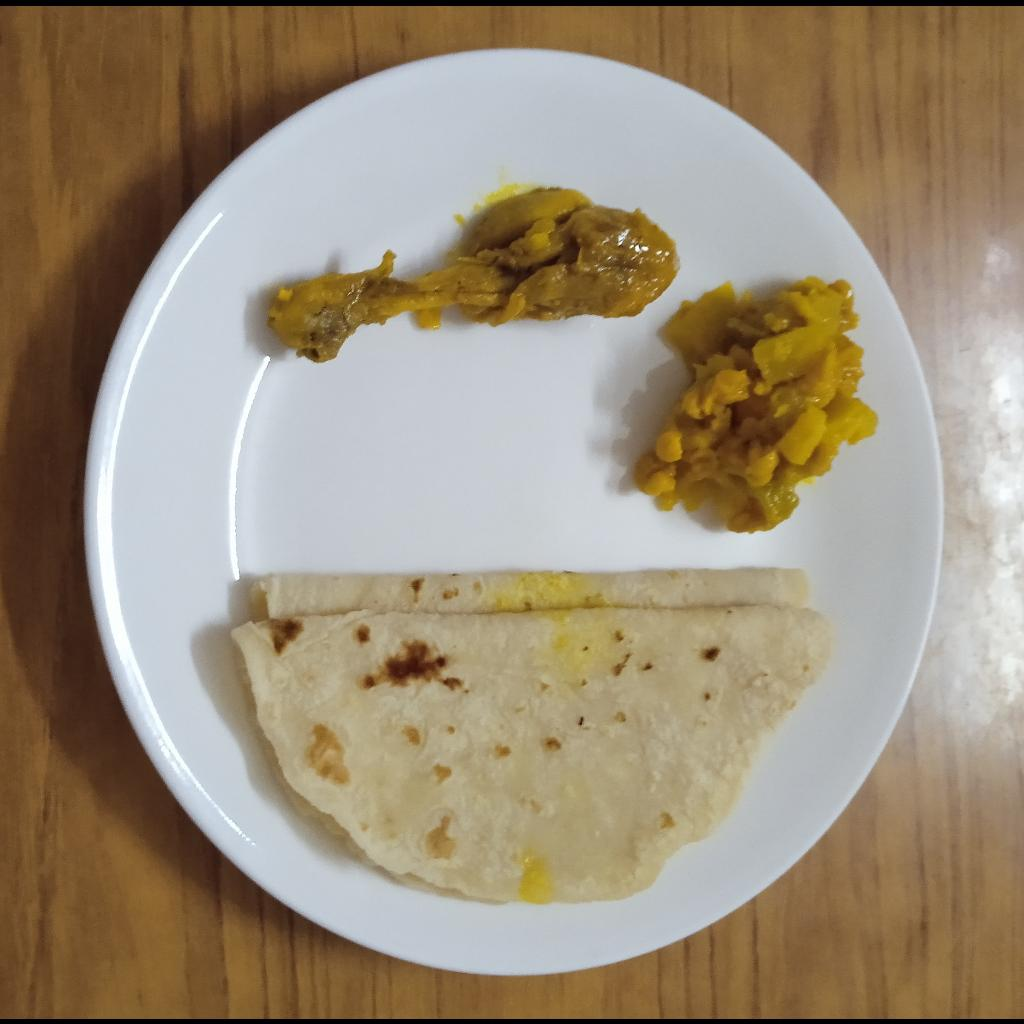chicken: (266, 186, 687, 365)
lau: (632, 272, 879, 531)
ruti: (232, 567, 839, 907)
